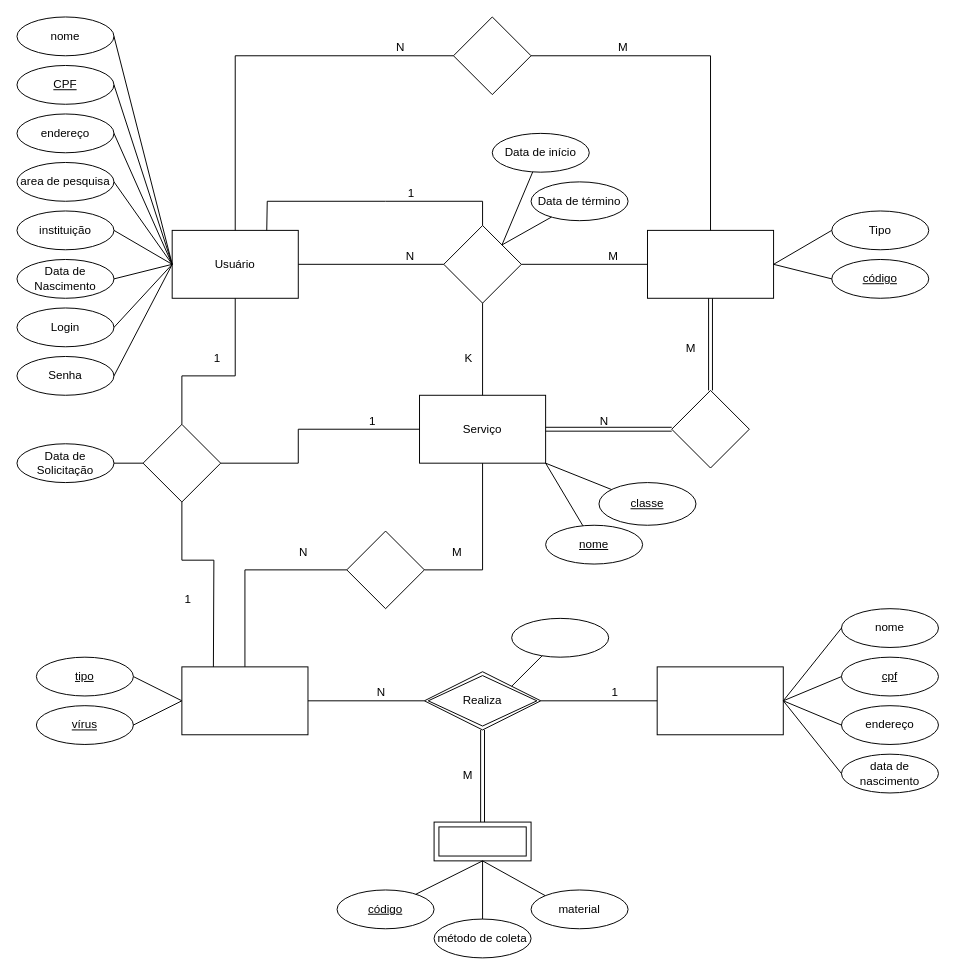
Some shapes in this 955 by 975 pixel diagram are drawn without their labels. Each missing label, with the centre of its shape:
"Amostra" goes at [482,841].
"data de realização" goes at [560,637].
"Exame" goes at [244,700].
"Gerencia" goes at [385,569].
"Log" goes at [181,462].
"Paciente" goes at [719,700].
"Perfil" goes at [710,263].
"Pertence" goes at [710,428].
"Possui" goes at [492,55].
"Tutelamento" goes at [482,264].
